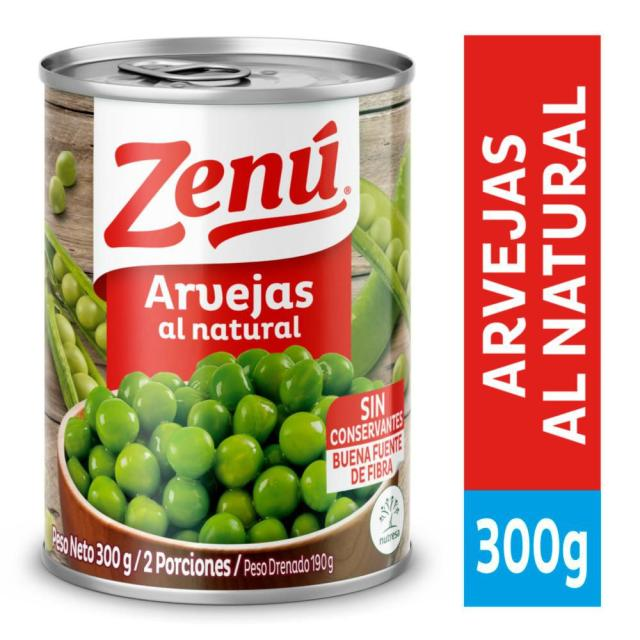arvejas: (72, 369, 342, 542)
